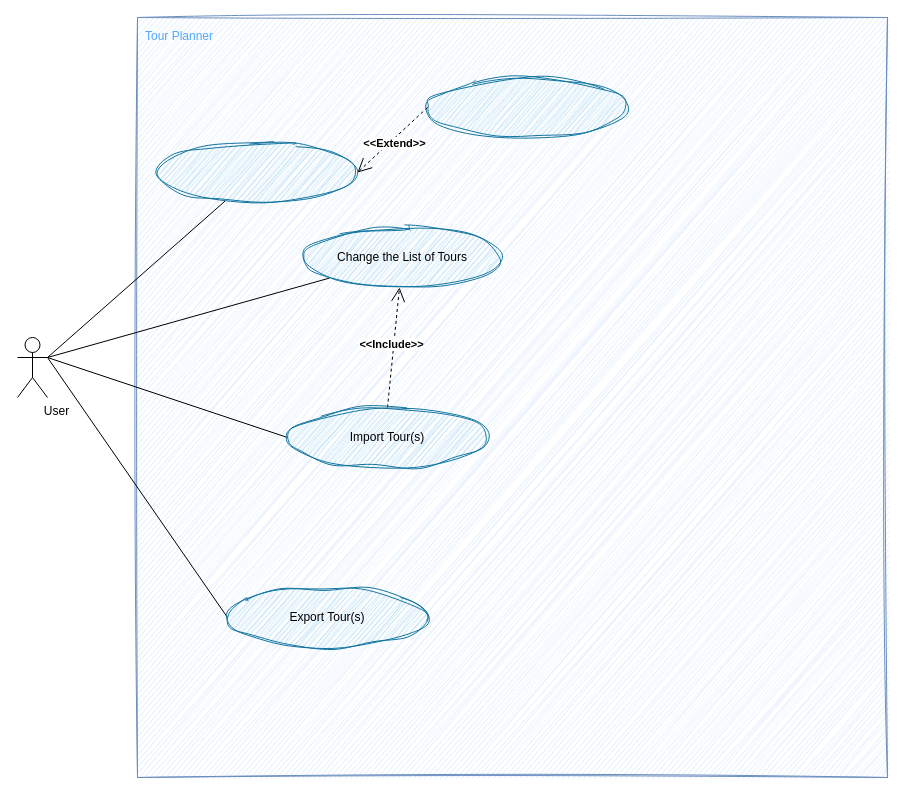
Some shapes in this 905 by 795 pixel diagram are drawn without their labels. The box of each missing label's shape, as (x1, y1, x2, y2) in pixels:
Look at Tours: (156, 142, 358, 202)
Search for Tours: (426, 76, 628, 138)
